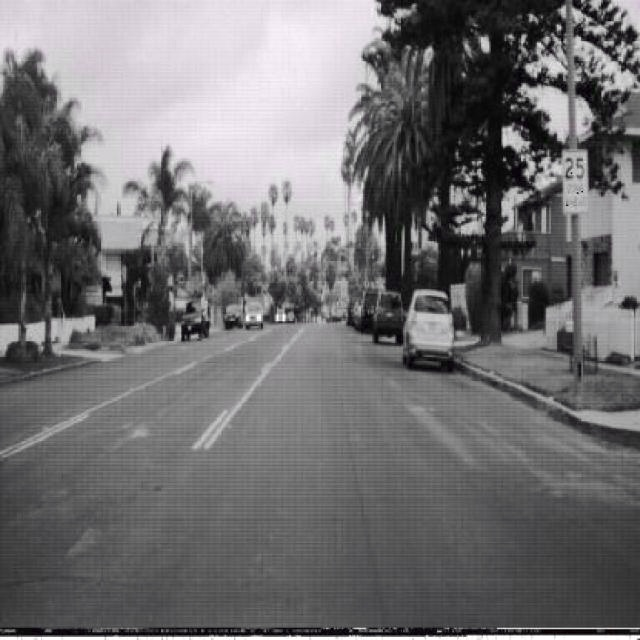zoneAhead25: (562, 148, 590, 215)
